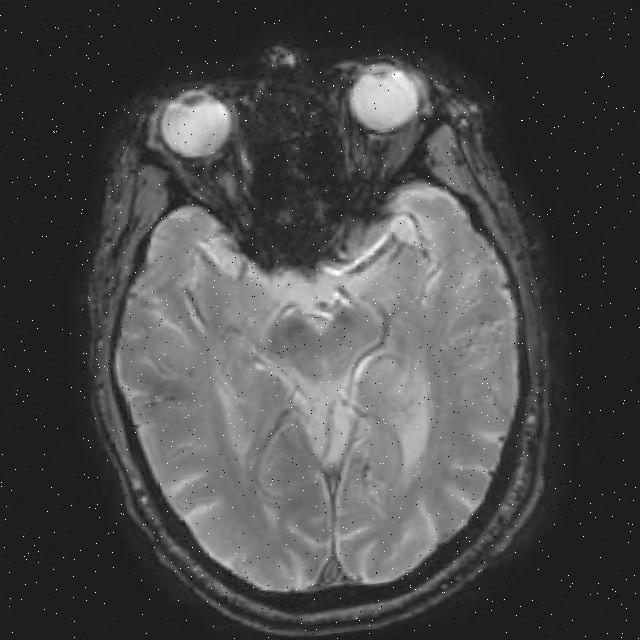EMCI: (258, 298, 382, 391)
